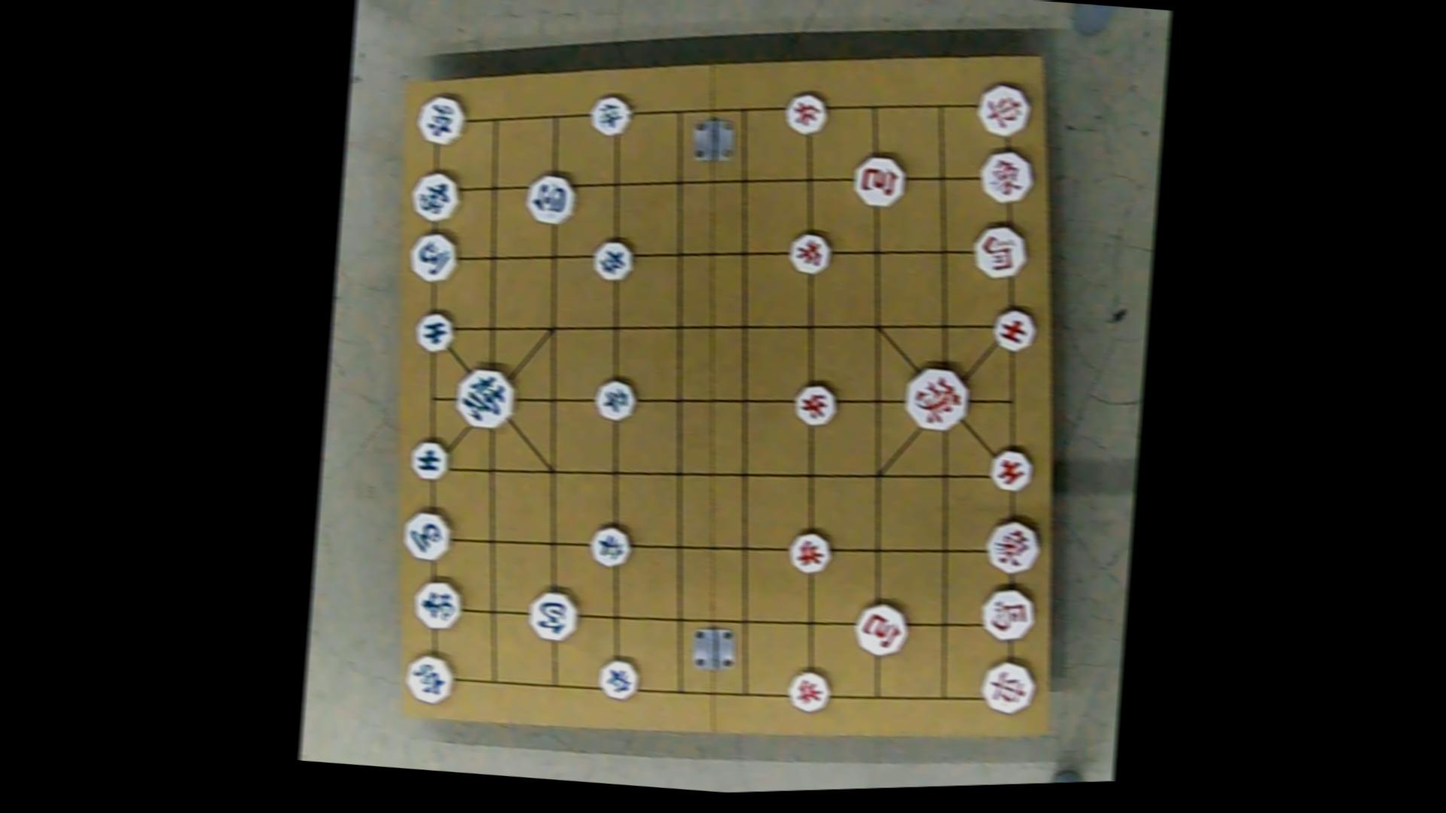cha_green: (415, 91, 466, 150), (406, 650, 456, 705)
cha_red: (978, 658, 1038, 717), (978, 80, 1034, 141)
jol_green: (594, 373, 637, 422), (588, 526, 631, 575), (593, 237, 635, 285), (599, 654, 641, 702), (592, 92, 633, 140)
jol_red: (795, 379, 839, 428), (789, 528, 833, 577), (785, 86, 828, 136), (789, 667, 831, 717), (789, 229, 831, 279)
ma_green: (409, 230, 460, 288), (404, 507, 455, 563)
ma_red: (975, 221, 1030, 282), (980, 581, 1035, 641)
po_green: (526, 584, 578, 644), (524, 169, 575, 225)
po_red: (853, 151, 909, 210), (857, 597, 911, 657)
sa_green: (416, 309, 457, 355), (412, 434, 452, 480)
sa_red: (991, 306, 1037, 354), (989, 447, 1033, 495)
sang_green: (410, 169, 465, 221), (411, 577, 462, 632)
sang_red: (982, 516, 1045, 577), (977, 145, 1034, 208)
wang_green: (453, 363, 516, 431)
wang_red: (905, 365, 970, 435)
